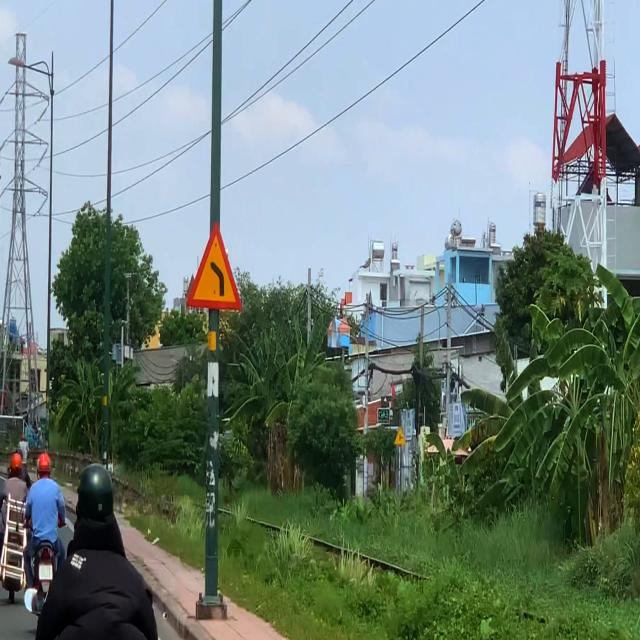Duong giao nhau: (394, 427, 406, 447)
Nguy hiem: (183, 218, 245, 322)
